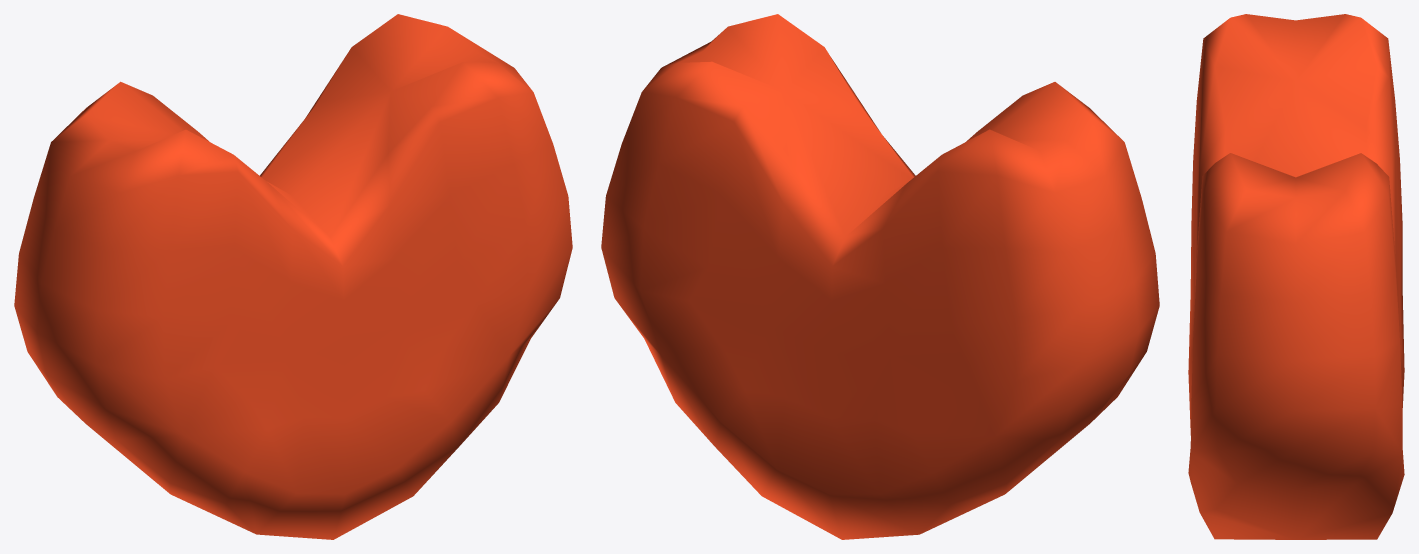
Rendered from Heart.fbx.
3 renders of one model, left to right at view 1: azimuth 30°, elevation 25°; view 2: azimuth 150°, elevation 25°; view 3: azimuth 270°, elevation 25°, orthographic.
Parts seen in each view (by area): view 1: pCube2; view 2: pCube2; view 3: pCube2.
Part boxes in pixels (x1,y1,x2,y2): pCube2: (14,14,572,539); pCube2: (601,14,1159,539); pCube2: (1188,14,1404,539).
Bounding box in the file's own units: 22.17 × 18.12 × 8.06.
